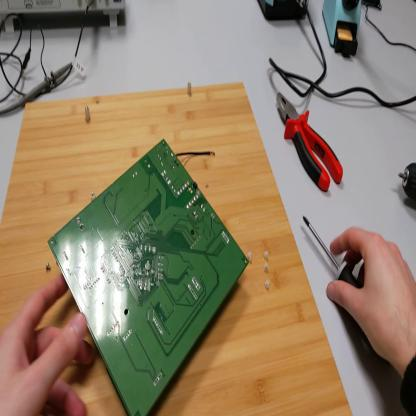electric screwdriver: (399, 161, 416, 201)
hand: (1, 277, 91, 416), (327, 227, 416, 365)
low voltage board: (48, 137, 250, 416)
oscilloscope: (2, 2, 126, 32)
oscilloscope probe tip: (2, 61, 73, 117)
pliers: (275, 92, 346, 195)
screwdriver-: (305, 216, 380, 356)
welder base: (324, 2, 364, 60)
welder station: (258, 1, 308, 23)
working area: (2, 83, 353, 416)
